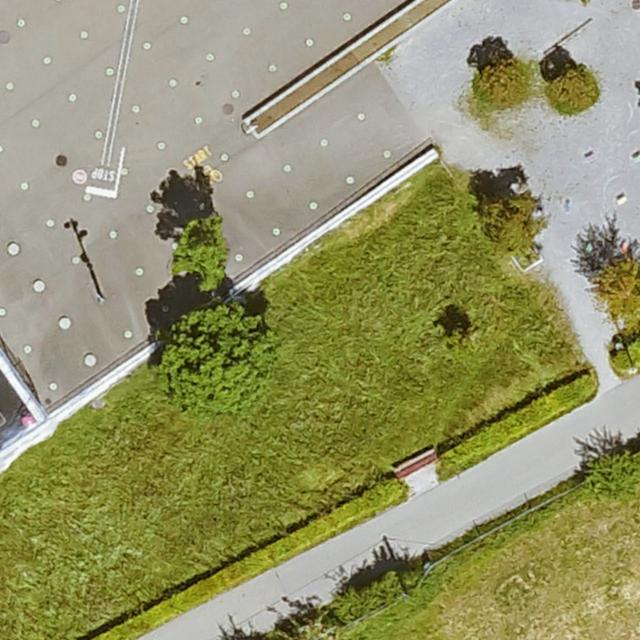tree: (158, 306, 271, 414), (476, 192, 542, 251), (169, 222, 227, 282), (584, 440, 640, 498), (473, 56, 526, 109), (545, 64, 599, 112), (595, 252, 640, 304), (431, 319, 473, 354)
